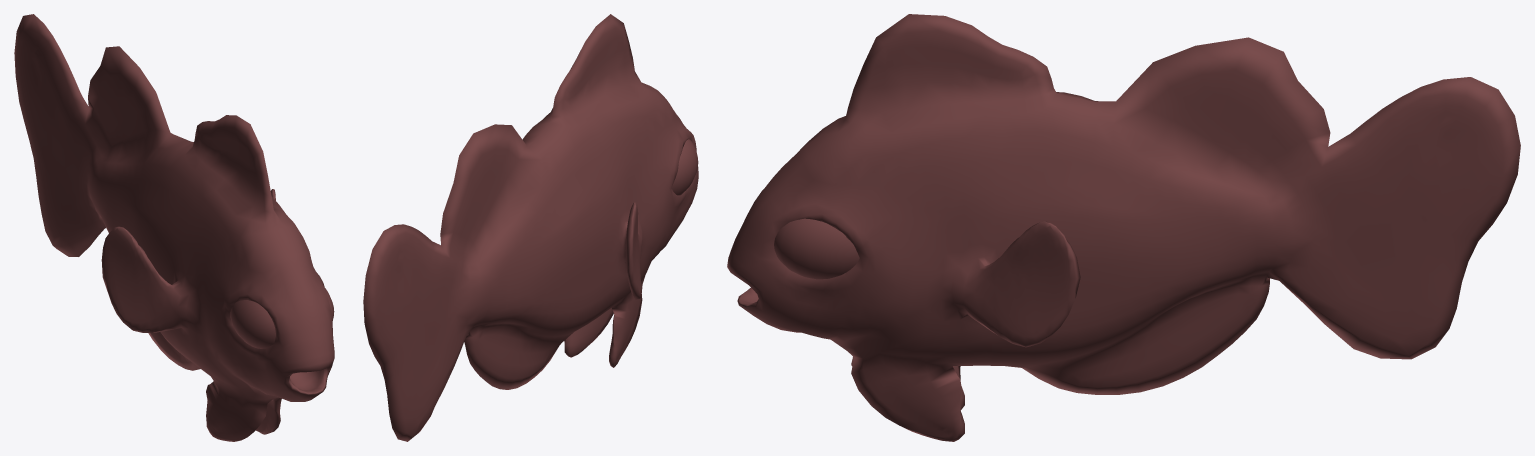
File: MClown_Lo_M.fbx
The picture shows the model from 3 angles, left to right: view 1: azimuth 30°, elevation 25°; view 2: azimuth 150°, elevation 25°; view 3: azimuth 270°, elevation 25°; orthographic projection. The views are drawn at different scales.
Visible parts, largest first — view 1: Body, EyeR; view 2: Body, EyeR; view 3: Body, EyeL.
Boxes of the visible parts, left/top/right/bottom form: Body: left=14, top=14, right=334, bottom=441; EyeR: left=230, top=300, right=275, bottom=348; Body: left=363, top=14, right=698, bottom=441; EyeR: left=671, top=139, right=698, bottom=195; Body: left=727, top=14, right=1520, bottom=441; EyeL: left=774, top=218, right=859, bottom=279.
Bounding box in the file's own units: 1.31 × 2.37 × 4.1.
